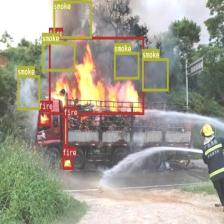fire: (48, 36, 144, 115), (38, 109, 50, 126), (62, 155, 73, 169), (64, 115, 68, 146)
smoke: (53, 0, 92, 38), (42, 41, 75, 71), (142, 57, 168, 90), (18, 75, 40, 109), (114, 51, 139, 79)
